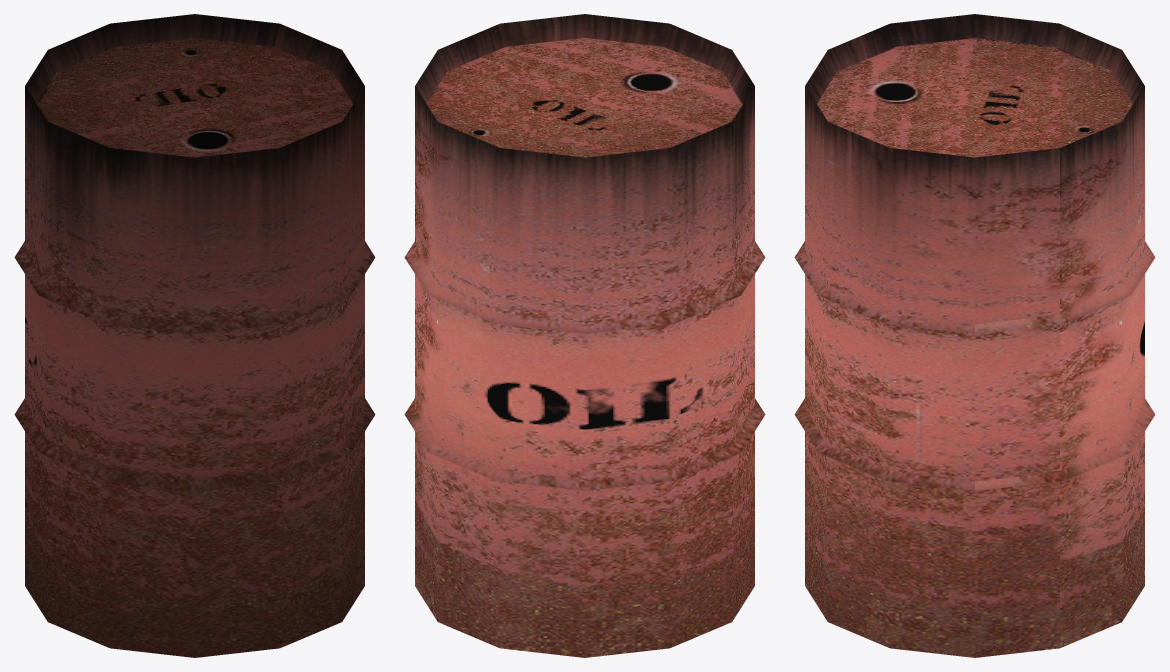
File: barrel05.fbx
3 renders of one model, left to right at view 1: azimuth 30°, elevation 25°; view 2: azimuth 150°, elevation 25°; view 3: azimuth 270°, elevation 25°, orthographic.
Visible parts, largest first — view 1: barrel5_Layer1; view 2: barrel5_Layer1; view 3: barrel5_Layer1.
Part boxes in pixels (left/top/right/bottom): barrel5_Layer1: left=14, top=14, right=375, bottom=657; barrel5_Layer1: left=404, top=14, right=765, bottom=657; barrel5_Layer1: left=794, top=14, right=1155, bottom=657.
Size of the model in its own units: 66.3 by 101 by 66.3.
Materials: 1 (1 with a texture image).
